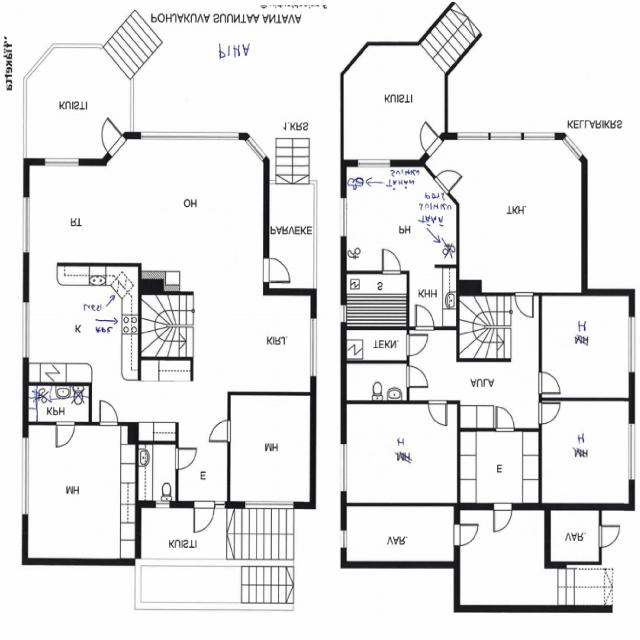door: (94, 118, 126, 157), (413, 122, 443, 156), (434, 162, 462, 194), (194, 501, 215, 533), (264, 258, 290, 282), (454, 524, 478, 546), (56, 422, 75, 448), (494, 503, 512, 530), (429, 400, 447, 426), (416, 304, 434, 330), (496, 406, 514, 432), (599, 525, 620, 547), (383, 249, 401, 274), (100, 400, 117, 426), (209, 420, 230, 441), (407, 334, 427, 356), (406, 366, 426, 387), (539, 403, 559, 424), (516, 292, 533, 316), (539, 373, 559, 393), (176, 448, 195, 468)
